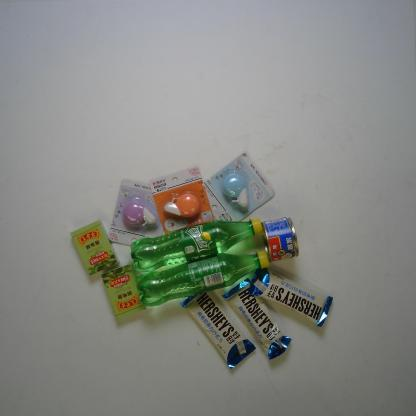Candy: (70, 219, 120, 276), (101, 261, 147, 320)
Canned Food: (261, 216, 299, 264)
Chocolate: (221, 275, 293, 362), (180, 291, 257, 370), (247, 266, 334, 328)
Drink: (136, 250, 270, 308), (130, 217, 264, 273)
Stationery: (203, 153, 275, 222), (148, 166, 214, 234), (107, 178, 164, 246)
